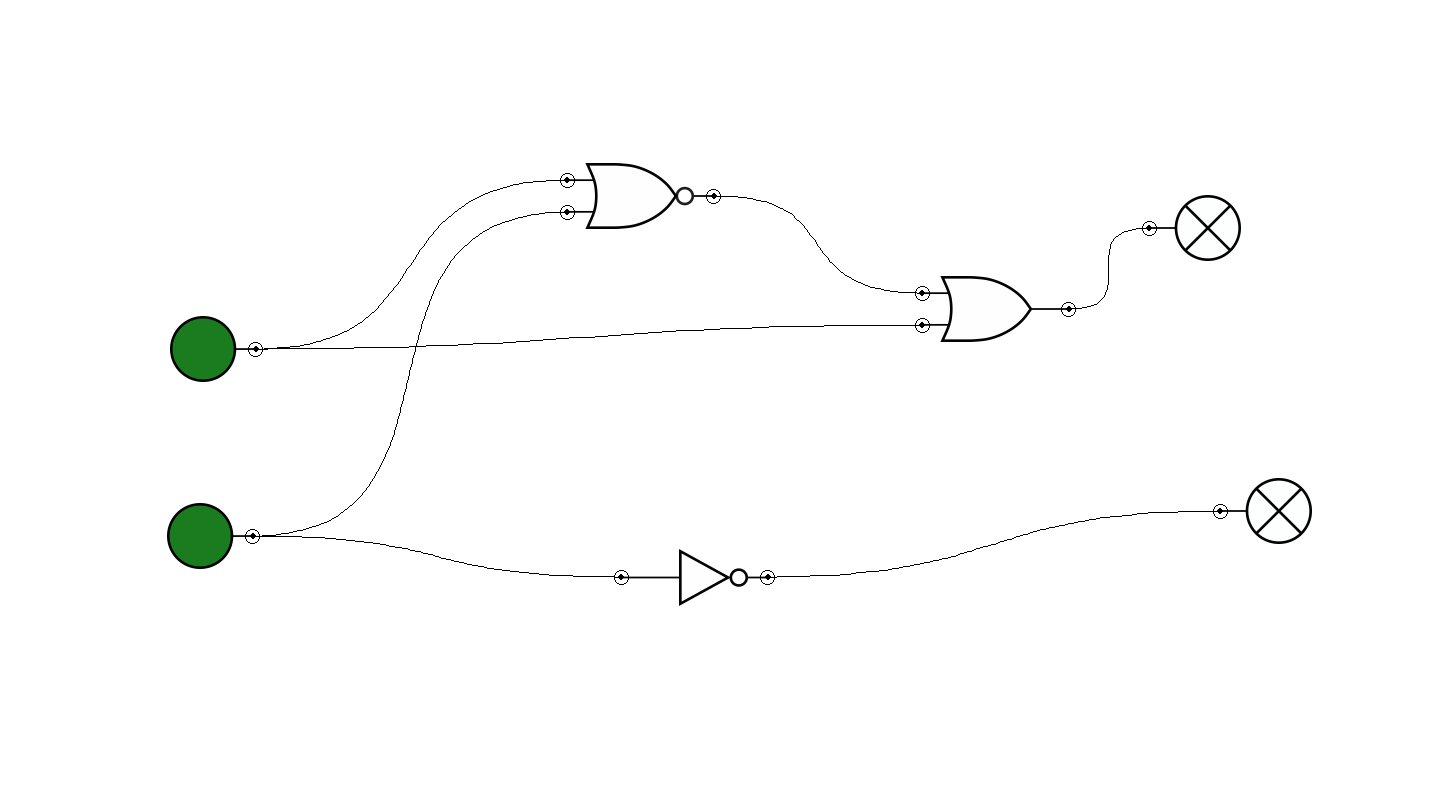bulb: (1213, 478, 1312, 544), (1142, 195, 1241, 261)
nor: (560, 163, 721, 229)
not: (614, 549, 775, 606)
or: (915, 276, 1076, 342)
switch_True: (170, 316, 263, 382), (167, 503, 260, 569)
